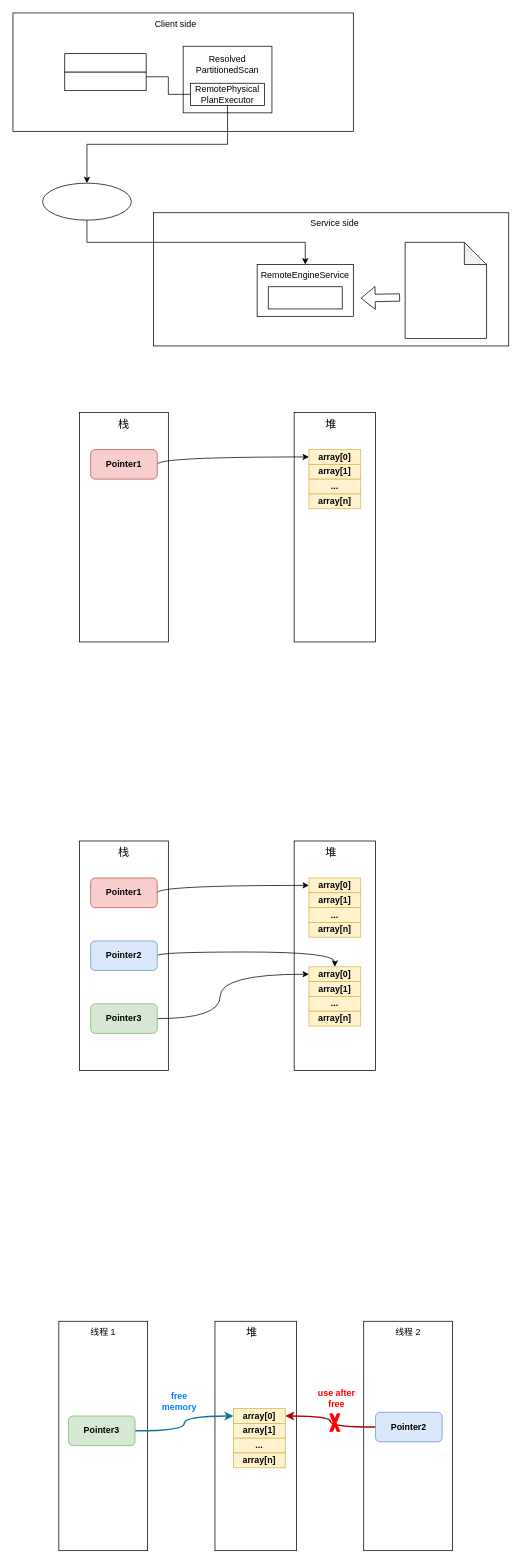
Image size: 522x1564. Some labels were removed from this diagram. Here are the shapes that lost their labels. From the top down, the centre of each, then its label:
At point 105,62: "RemoteEngine".
At point 105,81: "PhysicalPlanCodec".
At point 86,201: "Encoded physical plan".
At point 305,297: "Executor".
At point 445,290: "1.Decode the plan and context first 2. Pass them to executor then".
